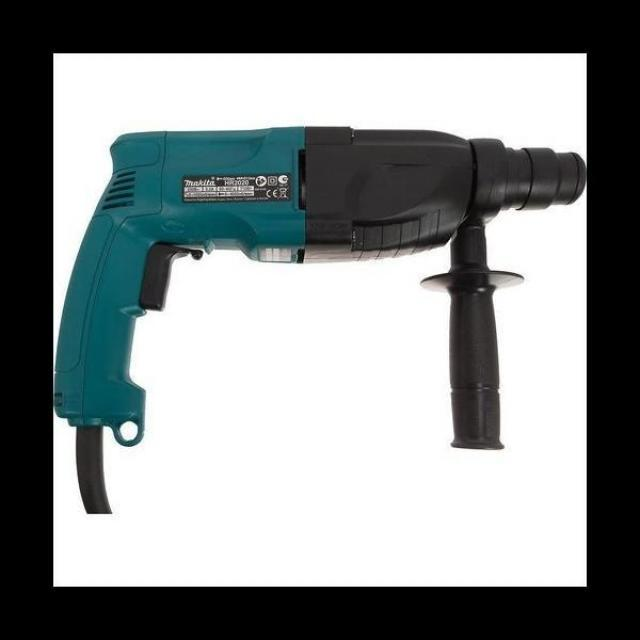drill: (53, 125, 588, 515)
